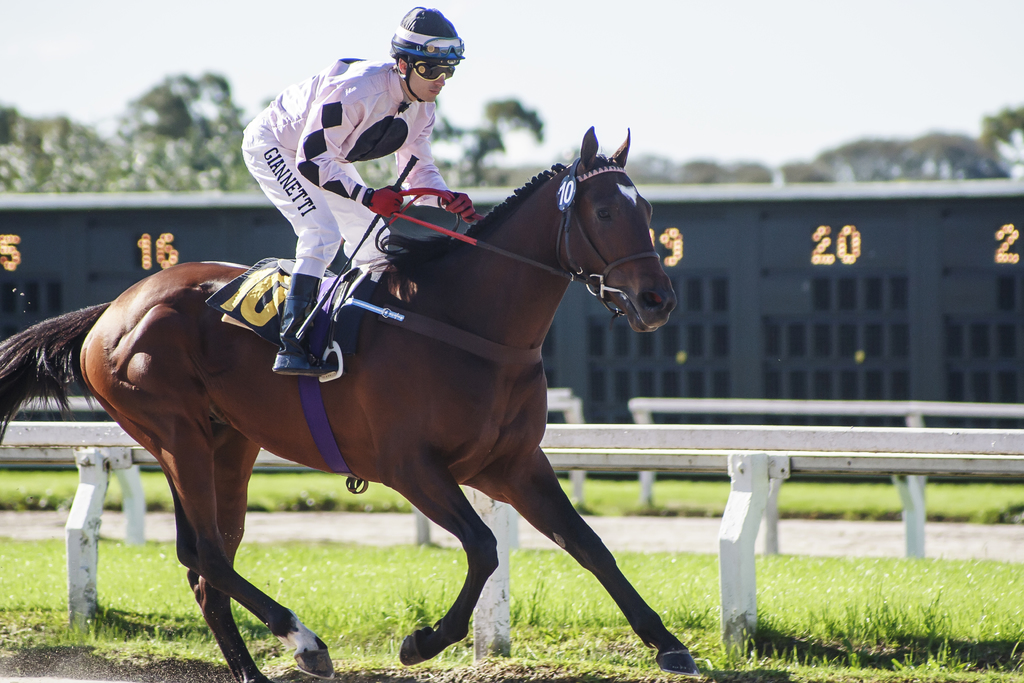horse: (0, 125, 700, 682)
